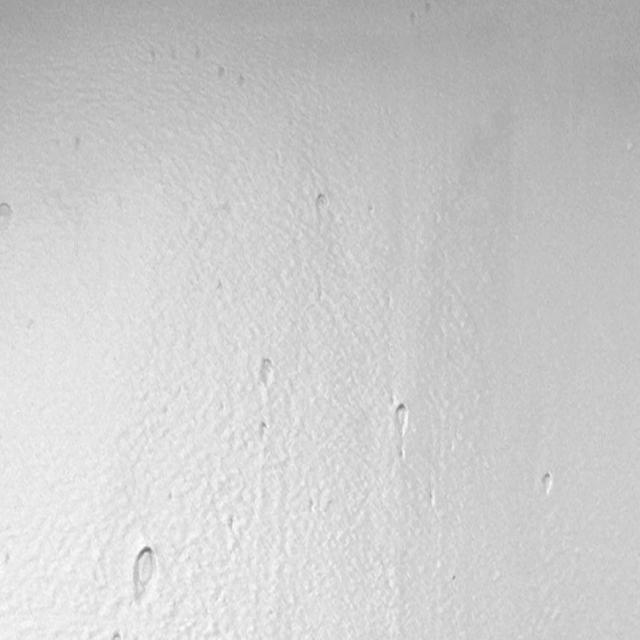pin holes: (126, 543, 163, 601), (256, 355, 278, 389), (391, 402, 411, 433), (538, 470, 556, 496), (0, 201, 16, 225), (255, 420, 271, 443), (227, 508, 237, 542), (314, 191, 328, 213), (234, 75, 248, 93), (421, 1, 435, 18), (218, 65, 230, 81), (112, 627, 126, 639), (397, 442, 405, 462), (366, 204, 377, 217)
